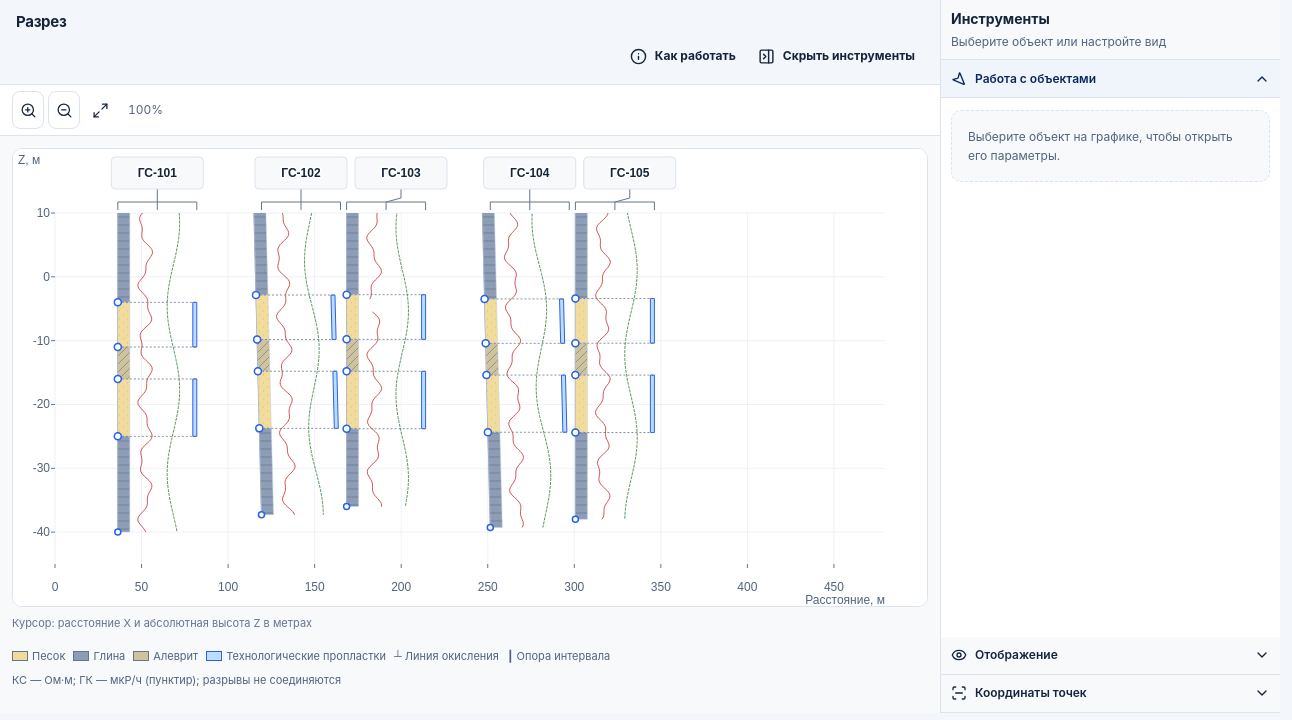
Test: graph and tools composition › keeps camera controls above the plot and display options in the inspector
Step 1. Click the button "Отображение" → (1016, 654), box [941,636,1280,674]
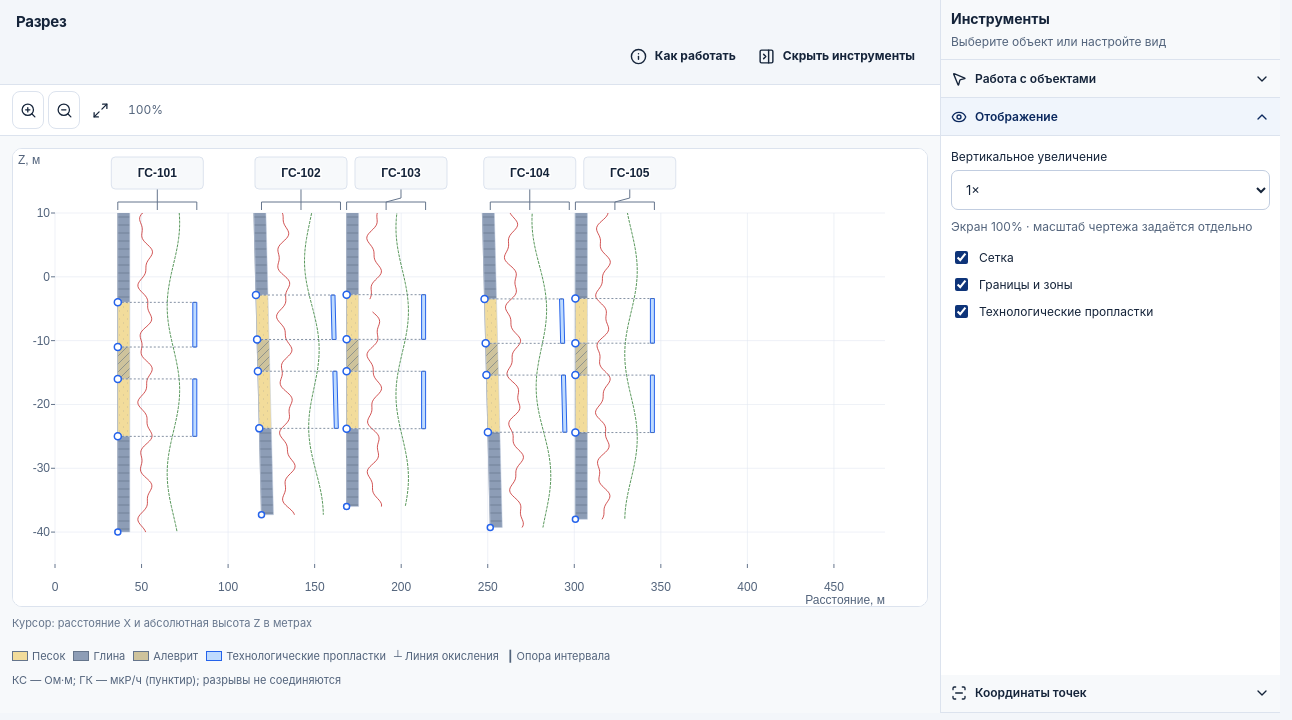
Check: the checkbox labelled "Сетка" is shown, box [955,251,968,264]
